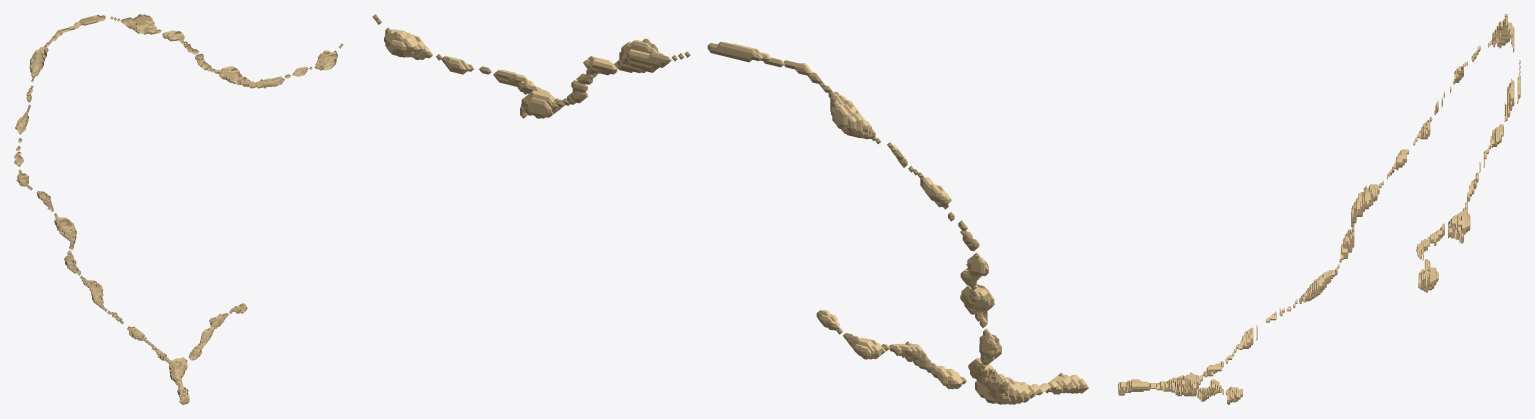
The model's file is SVV_AVDR.gltf.
3 renders of one model, left to right at view 1: azimuth 30°, elevation 25°; view 2: azimuth 150°, elevation 25°; view 3: azimuth 270°, elevation 25°, orthographic. The views are drawn at different scales.
Parts seen in each view (by area): view 1: AVDR; view 2: AVDR; view 3: AVDR.
Boxes of the visible parts, left/top/right/bottom form: AVDR: left=14, top=14, right=343, bottom=404; AVDR: left=372, top=14, right=1089, bottom=404; AVDR: left=1118, top=14, right=1520, bottom=404.
Size of the model in its own units: 98355 by 78895 by 73514.
